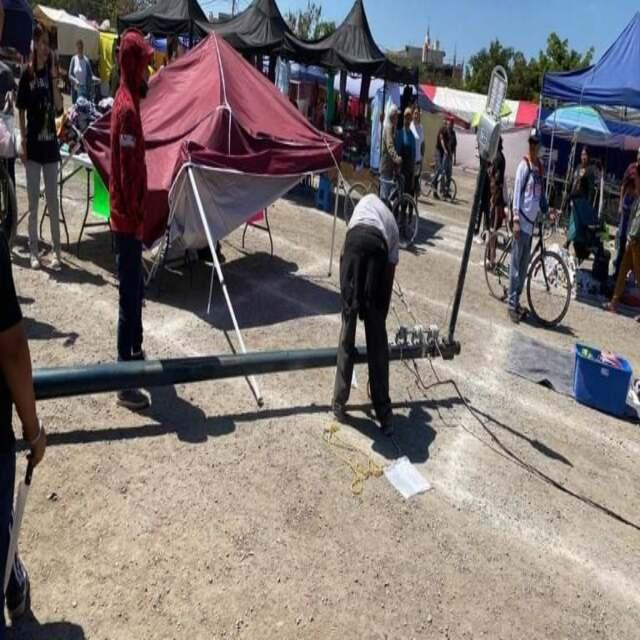Inclined Pole: (27, 326, 468, 402)
